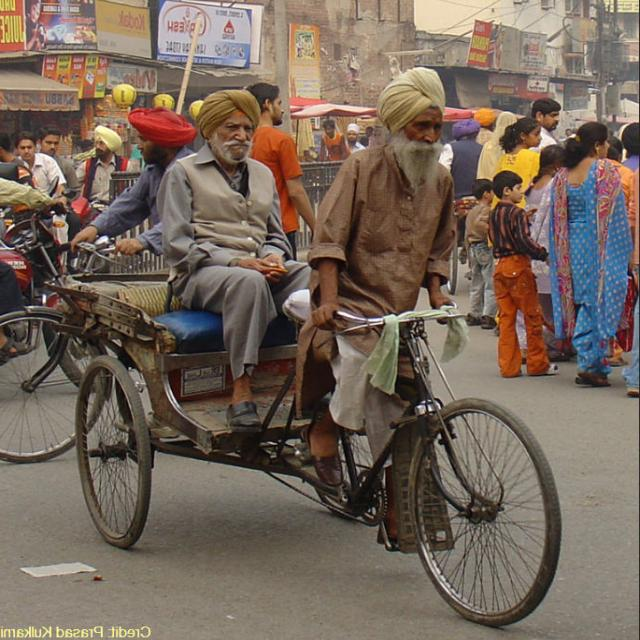bicycle: (35, 69, 560, 626)
